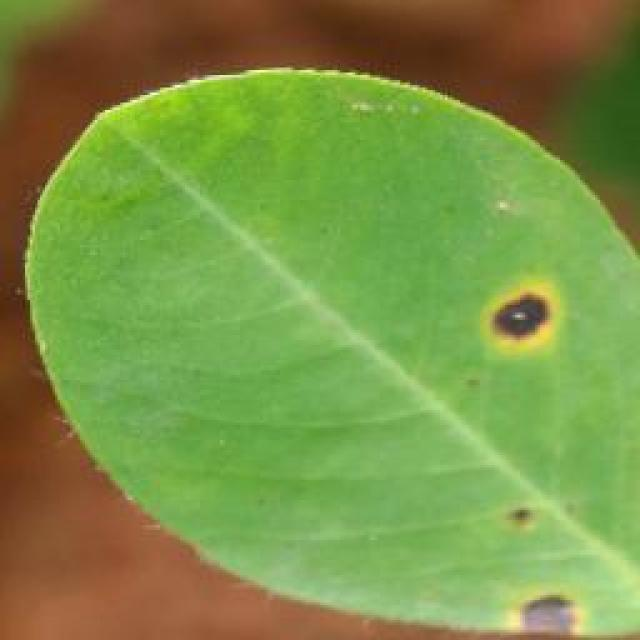Sigatoka: (463, 267, 572, 380), (496, 577, 611, 640), (483, 506, 573, 566)
